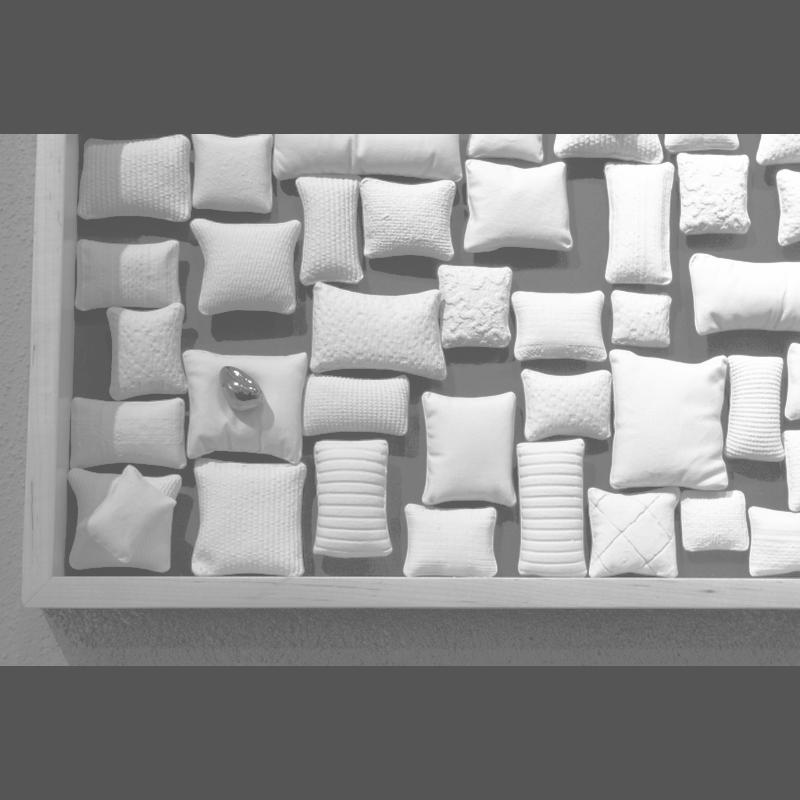pillow: (598, 344, 742, 494), (176, 342, 306, 468), (299, 278, 453, 378), (187, 459, 321, 572), (415, 383, 525, 513), (458, 151, 586, 255), (55, 389, 200, 480), (187, 208, 305, 314), (603, 160, 697, 288), (72, 453, 178, 565), (68, 468, 182, 572), (308, 432, 396, 564), (70, 134, 194, 226), (586, 480, 692, 580), (356, 172, 462, 266), (266, 135, 474, 182), (100, 308, 202, 400), (288, 172, 370, 286), (514, 358, 622, 442), (73, 238, 191, 312), (688, 254, 798, 332), (290, 371, 415, 439), (397, 501, 505, 577), (719, 348, 789, 462), (509, 286, 611, 364), (672, 150, 758, 238), (434, 262, 519, 346), (188, 134, 280, 209), (681, 482, 751, 560), (603, 289, 673, 357), (745, 500, 799, 582), (550, 134, 661, 162), (770, 168, 796, 256), (448, 136, 550, 158), (774, 433, 798, 511), (751, 134, 799, 164), (782, 342, 800, 422), (663, 134, 745, 150)
